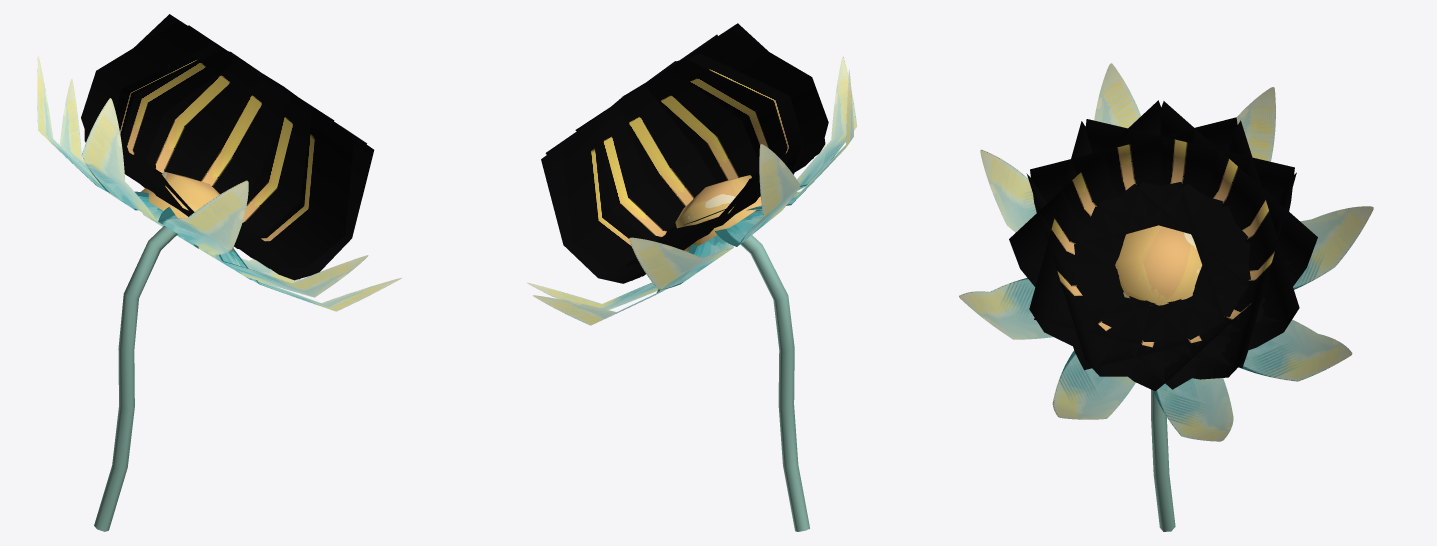
The model's file is fleur bleu2.fbx.
The picture shows the model from 3 angles, left to right: view 1: azimuth 30°, elevation 25°; view 2: azimuth 150°, elevation 25°; view 3: azimuth 270°, elevation 25°; orthographic projection. The views are drawn at different scales.
Parts seen in each view (by area): view 1: Pistil, Texture pétale fleur, BézierCurve, Cube; view 2: Pistil, Texture pétale fleur, BézierCurve, Cube; view 3: Pistil, Texture pétale fleur, Cube, BézierCurve.
Part boxes in pixels (bbox=[...]): Pistil: bbox=[81, 14, 374, 280]; Texture pétale fleur: bbox=[37, 56, 401, 311]; BézierCurve: bbox=[94, 225, 177, 531]; Cube: bbox=[141, 172, 233, 251]; Pistil: bbox=[541, 23, 828, 283]; Texture pétale fleur: bbox=[527, 56, 856, 325]; BézierCurve: bbox=[740, 235, 809, 531]; Cube: bbox=[675, 175, 761, 251]; Pistil: bbox=[1009, 100, 1317, 391]; Texture pétale fleur: bbox=[959, 63, 1373, 441]; Cube: bbox=[1115, 225, 1202, 305]; BézierCurve: bbox=[1151, 389, 1175, 531].
Bounding box in the file's own units: 14.34 × 19.38 × 18.13.
